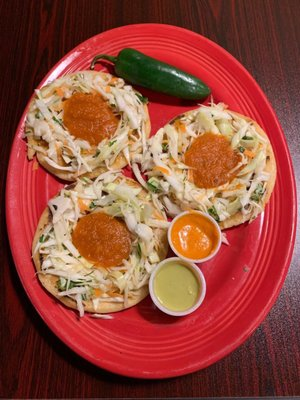sushi: (149, 257, 207, 317), (168, 210, 222, 264)
